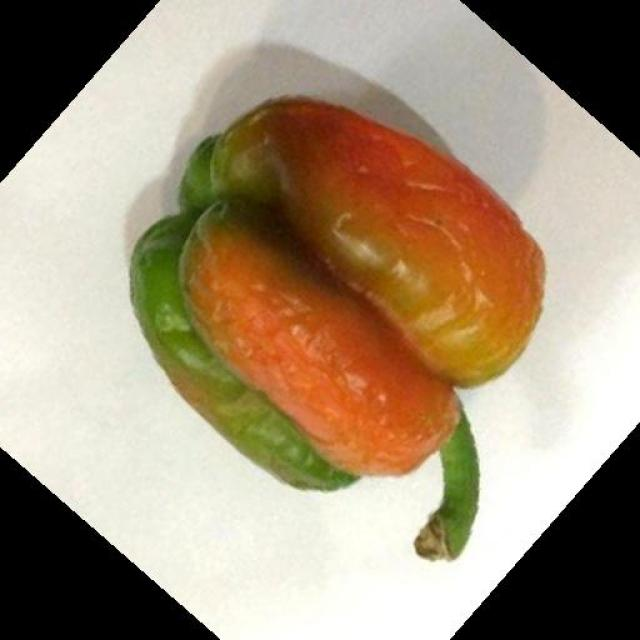Stale_Capsicum: (114, 97, 554, 581)
